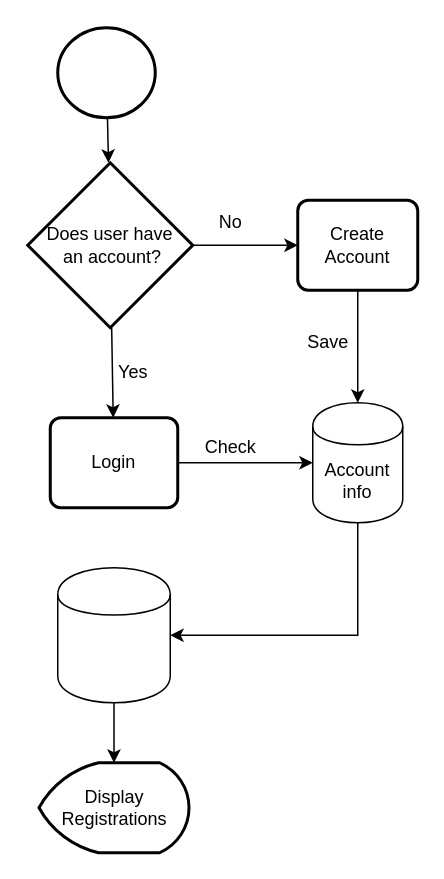
The diagram is 444 pixels wide and 879 high, and some of its shapes have lost their labels. Each missing label, with the centre of its shape:
Create Token and send to client: (113,634)
Homepage: (106,72)
